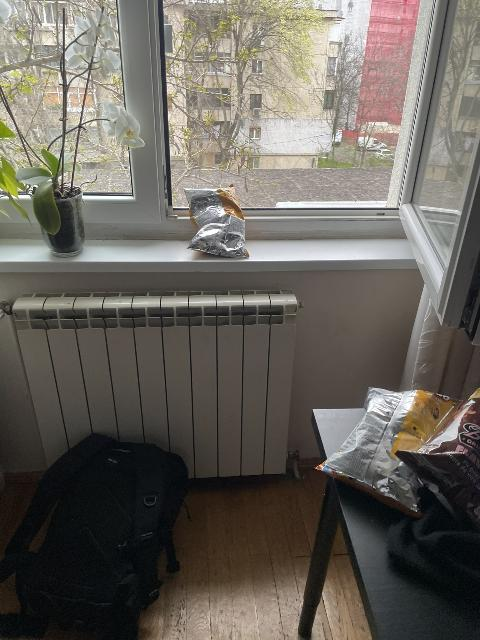Chio Cascaval 125g: (327, 389, 457, 522)
Chio Hula Hoops Cheese 70g: (179, 182, 251, 260)
Lays Beef Grilled Ribs 125g: (402, 377, 480, 533)
